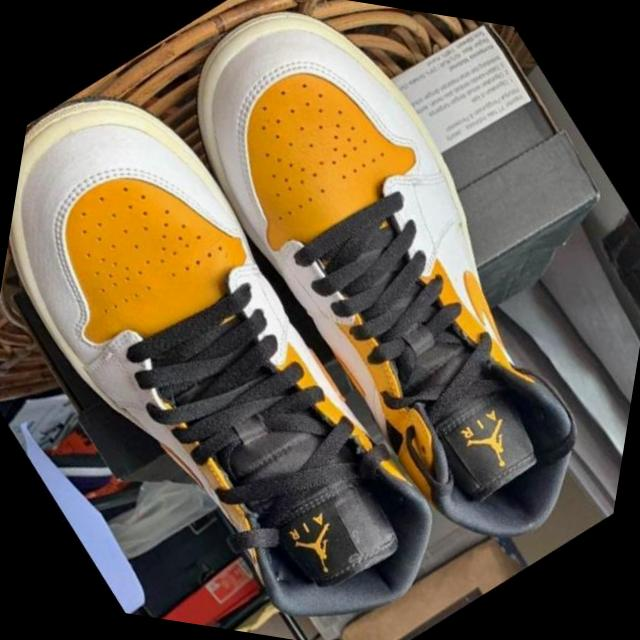nike_original_jordan: (0, 33, 539, 640), (91, 0, 640, 591)
